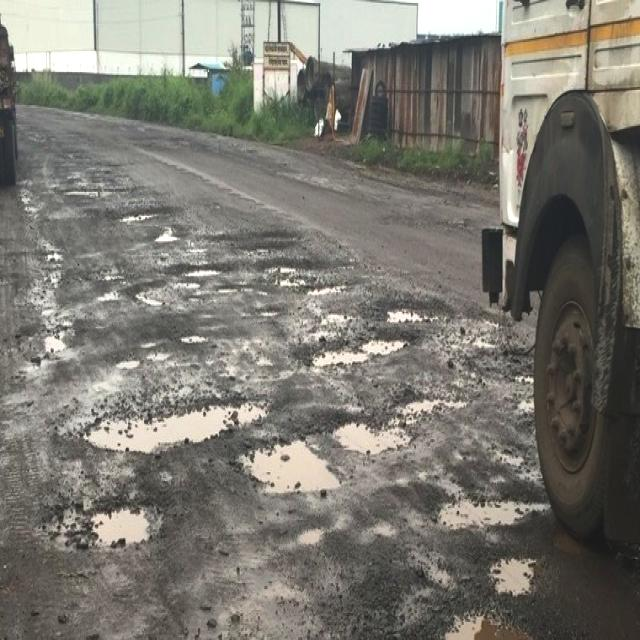Pothole: (38, 154, 295, 640), (107, 286, 385, 588)
